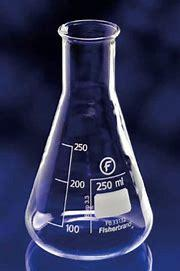Titrarion: (26, 13, 154, 256)
